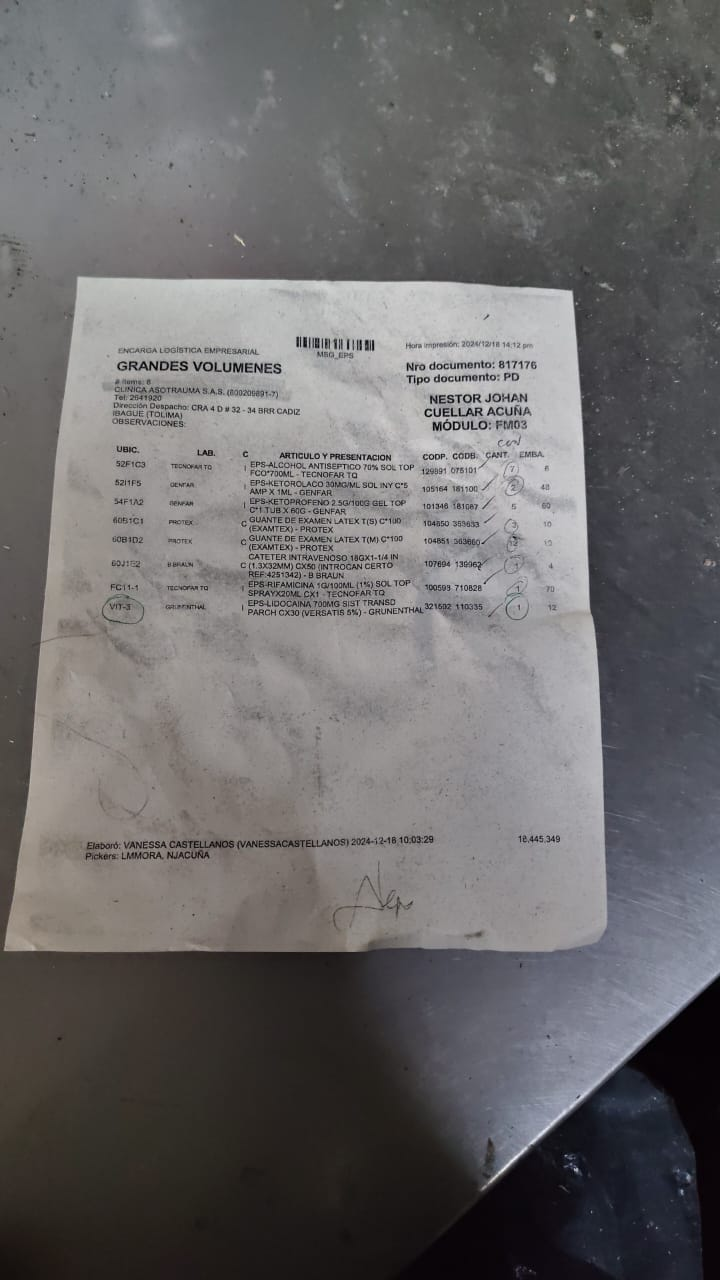Papel: (0, 275, 607, 953)
